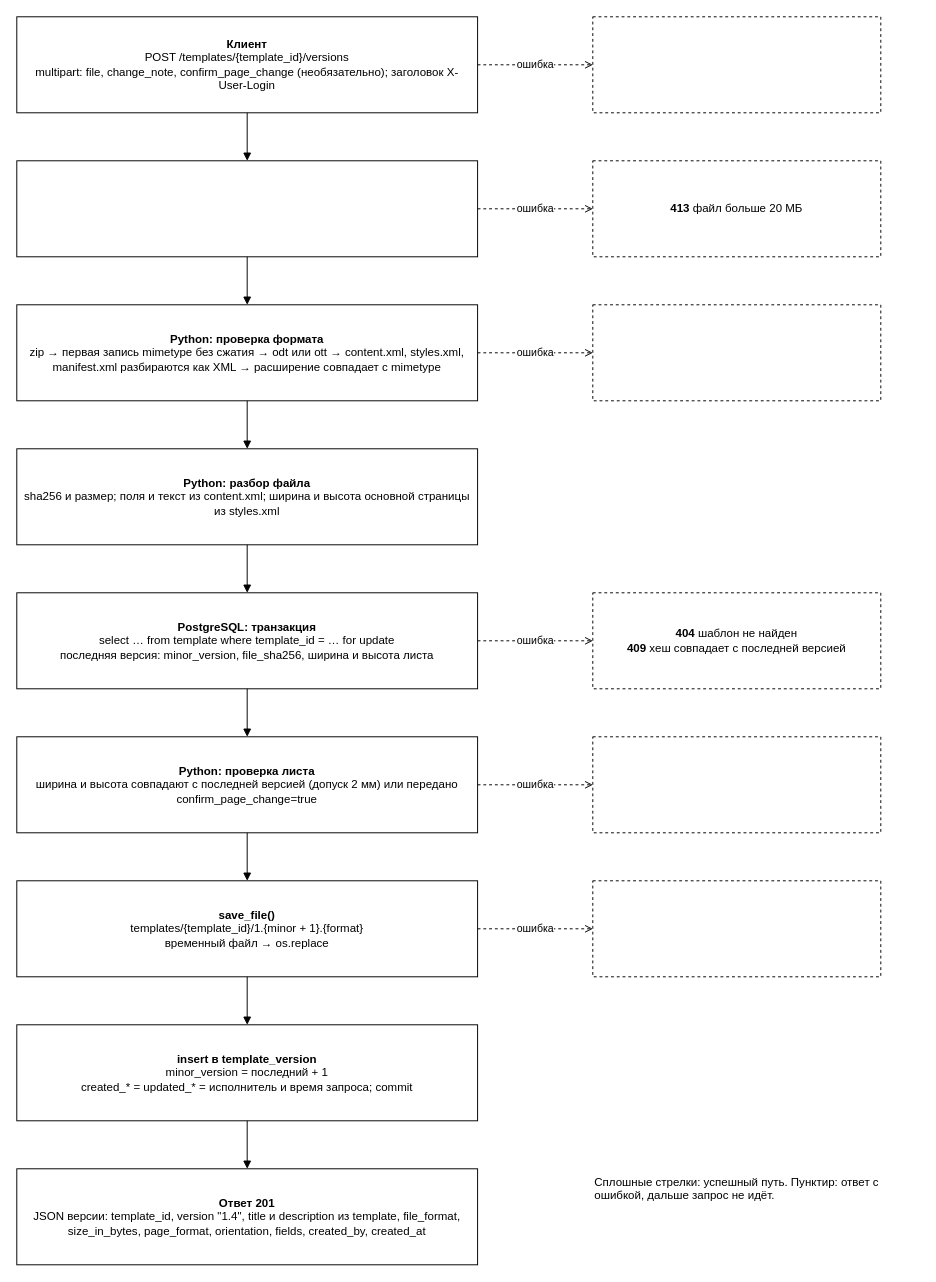
The diagram is 936 pixels wide and 1282 high, and some of its shapes have lost their labels. Here are the shapes that lost their labels. From the top down, the centre of each, then its label:
At (736,64): "401 нет X-User-Login".
At (247,208): "FastAPI: приём запроса размер файла не больше 20 МБ".
At (736,352): "415 не ODT/OTT или расширение не совпадает".
At (736,784): "422 размер листа изменился без подтверждения; транзакция откатывается".
At (736,928): "503 хранилище недоступно, транзакция откатывается".
